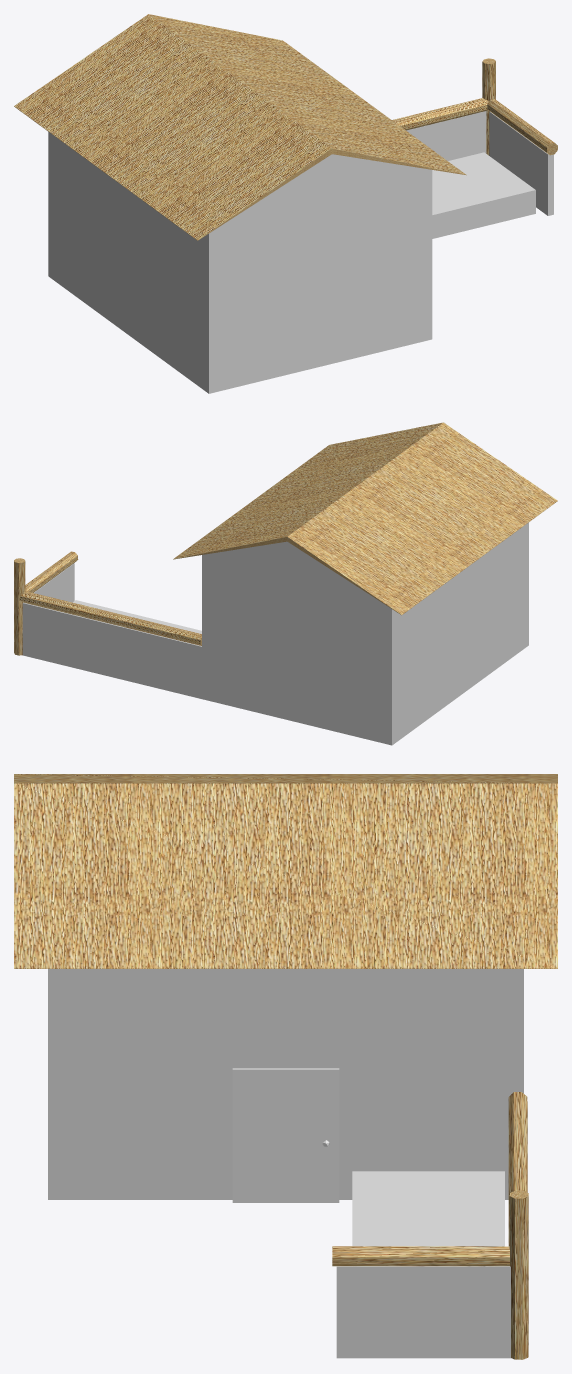
The model's file is Rumah-5.fbx.
The picture shows the model from 3 angles, top to bottom: view 1: azimuth 30°, elevation 25°; view 2: azimuth 150°, elevation 25°; view 3: azimuth 270°, elevation 25°; orthographic projection. The views are drawn at different scales.
Parts seen in each view (by area): view 1: Cube, Cube.003, Tempat Duduk, Cube.002, Cube.001, Bambu, Bambu.001, Bambu.002; view 2: Cube, Cube.003, Cube.001, Bambu, Bambu.002, Cube.002, Bambu.001, Tempat Duduk; view 3: Cube.003, Cube, Cube.002, Cube.004, Tempat Duduk, Bambu.001, Bambu.002, Bambu.
Part boxes in pixels (x1,y1,x2,y2): Cube: (48, 132, 432, 393); Cube.003: (14, 14, 466, 240); Tempat Duduk: (432, 152, 535, 238); Cube.002: (489, 111, 553, 215); Cube.001: (406, 111, 486, 160); Bambu: (392, 98, 488, 130); Bambu.001: (487, 99, 557, 155); Bambu.002: (482, 58, 495, 155); Cube: (202, 522, 528, 745); Cube.003: (173, 422, 557, 615); Cube.001: (22, 602, 201, 698); Bambu: (19, 591, 201, 645); Bambu.002: (14, 558, 25, 655); Cube.002: (34, 563, 74, 602); Bambu.001: (25, 551, 78, 592); Tempat Duduk: (73, 600, 201, 633); Cube.003: (14, 774, 557, 968); Cube: (48, 969, 523, 1199); Cube.002: (336, 1266, 511, 1358); Cube.004: (232, 1068, 339, 1202); Tempat Duduk: (352, 1171, 504, 1246); Bambu.001: (332, 1246, 509, 1266); Bambu.002: (509, 1190, 528, 1359); Bambu: (508, 1092, 527, 1246).
Bounding box in the file's own units: 2364 × 1094 × 1607.
